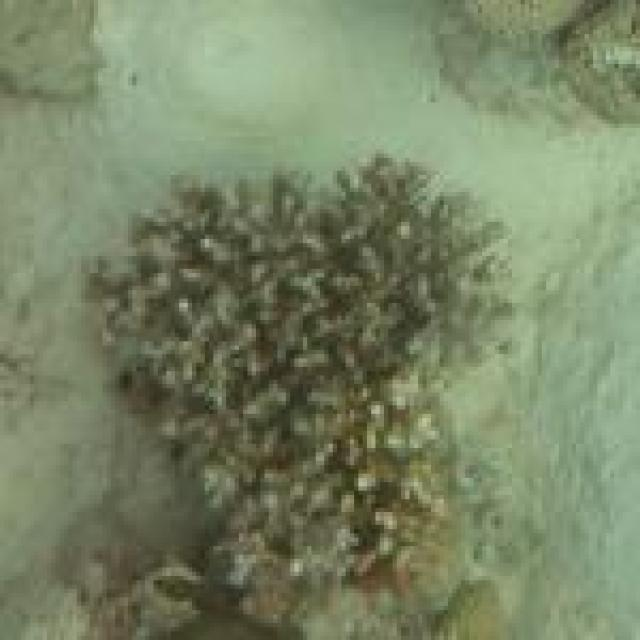Dead Coral: (103, 152, 524, 588)
